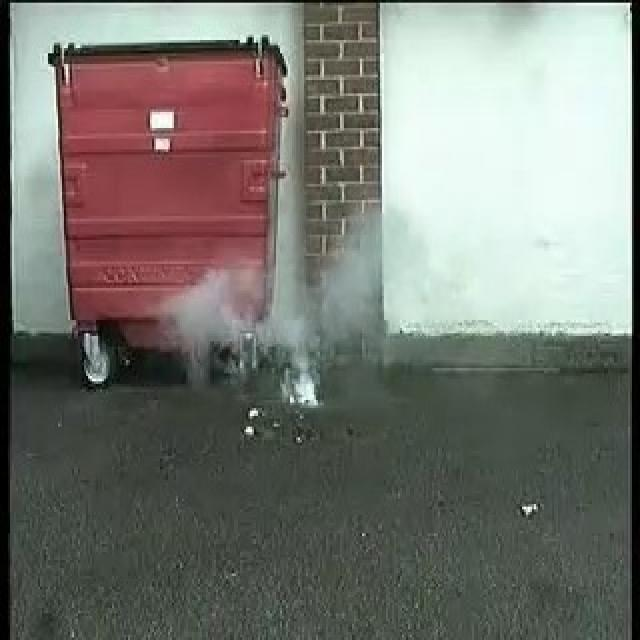smoke: (188, 210, 397, 401)
